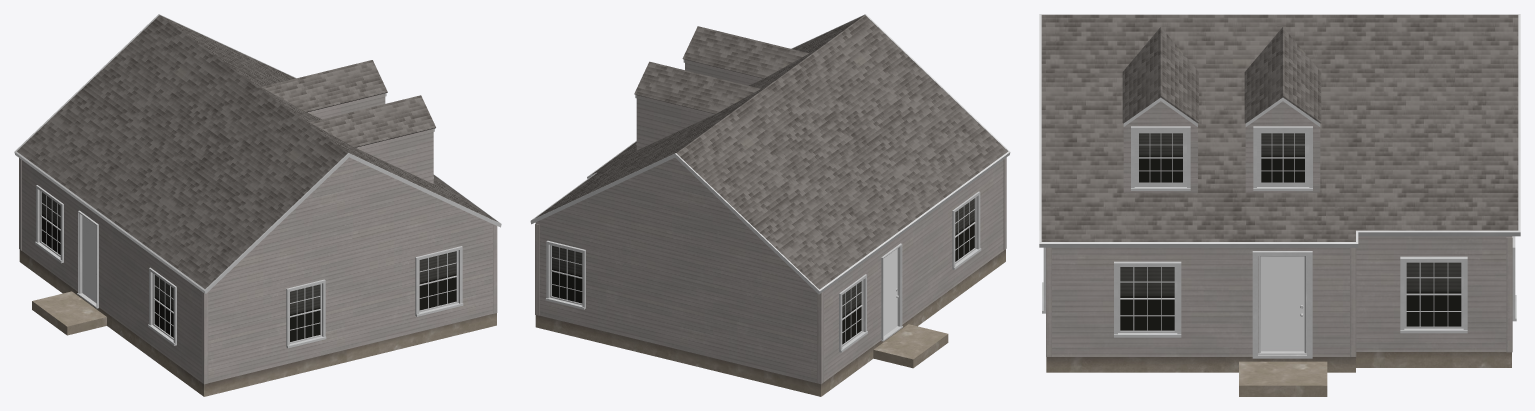
The model's file is house-1.glb.
The picture shows the model from 3 angles, left to right: view 1: azimuth 30°, elevation 25°; view 2: azimuth 150°, elevation 25°; view 3: azimuth 270°, elevation 25°; orthographic projection. The views are drawn at different scales.
Visible parts, largest first — view 1: House_1_col_V2; view 2: House_1_col_V2; view 3: House_1_col_V2.
Boxes of the visible parts, left/top/right/bottom form: House_1_col_V2: left=14, top=14, right=501, bottom=396; House_1_col_V2: left=530, top=14, right=1010, bottom=396; House_1_col_V2: left=1039, top=14, right=1520, bottom=396.
Bounding box in the file's own units: 10.21 × 5.53 × 9.05.
Materials: 1 (1 with a texture image).
